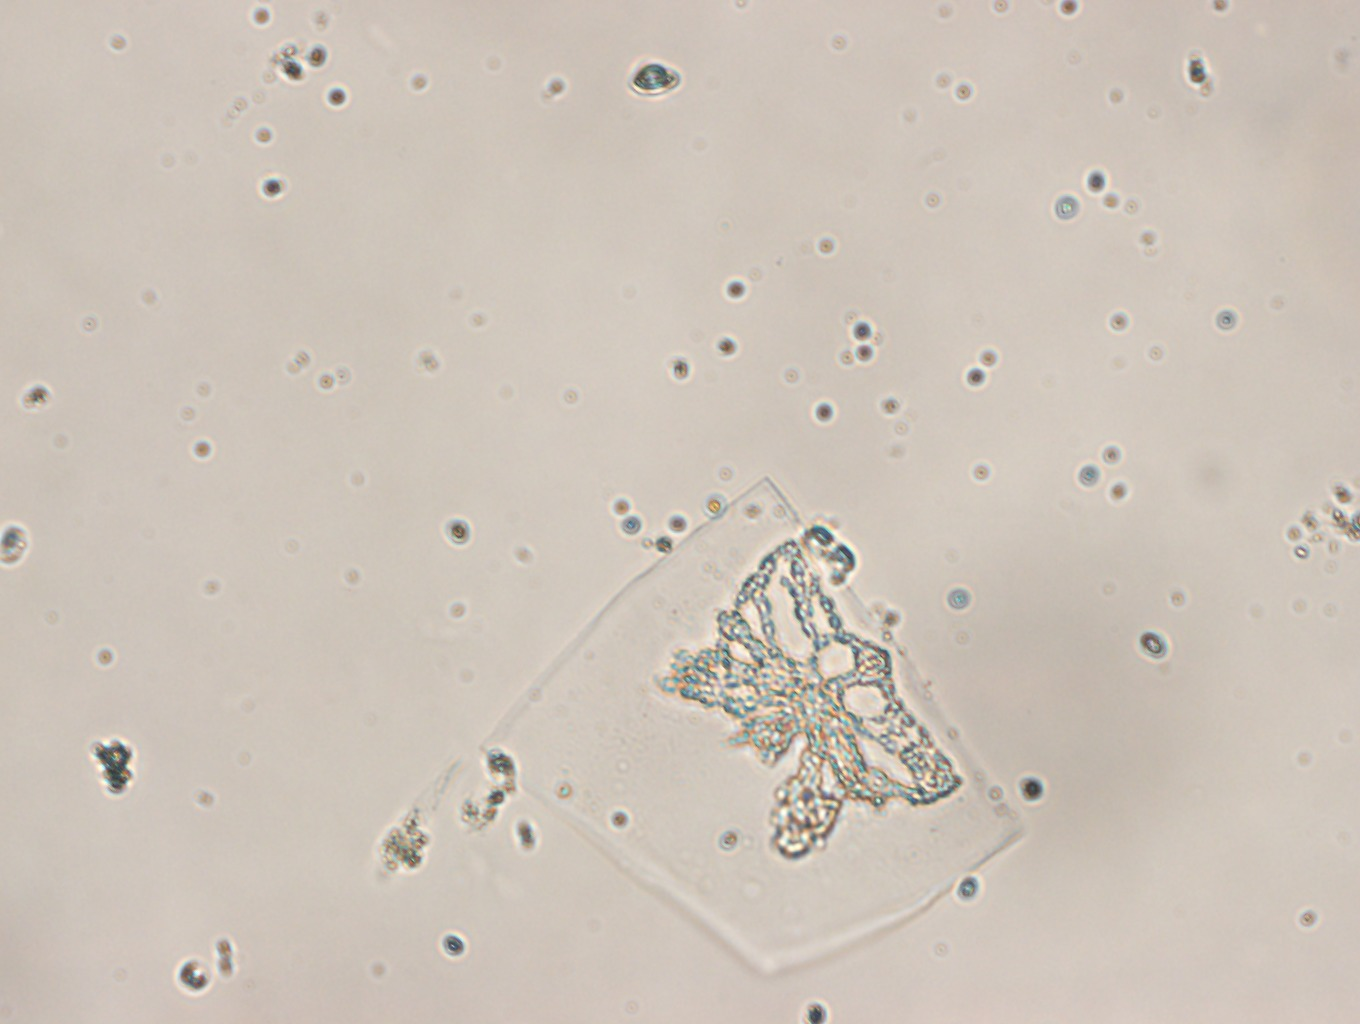helicotheca: (479, 478, 1032, 978)
